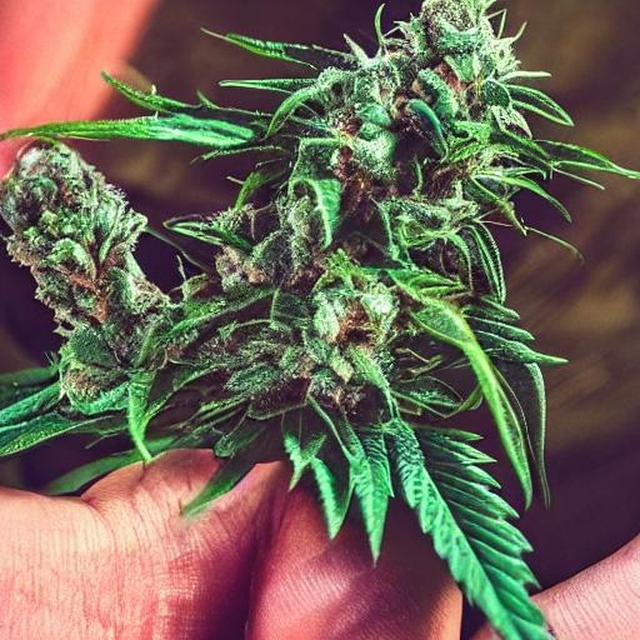Marijuana Plant: (17, 1, 617, 486)
